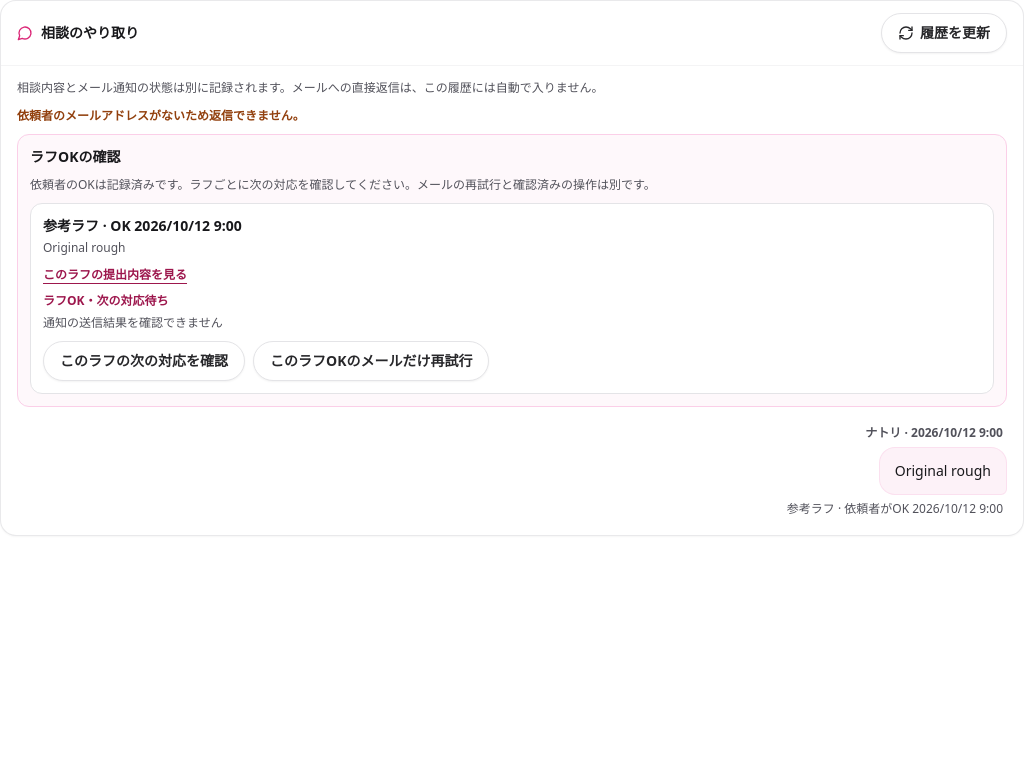
staff rough acknowledgement integration › a newer concurrent OK remains pending after the selected rough is acknowledged
Click the button "このラフの次の対応を確認".
click(144, 360)  # box x1=43 y1=340 x2=245 y2=380
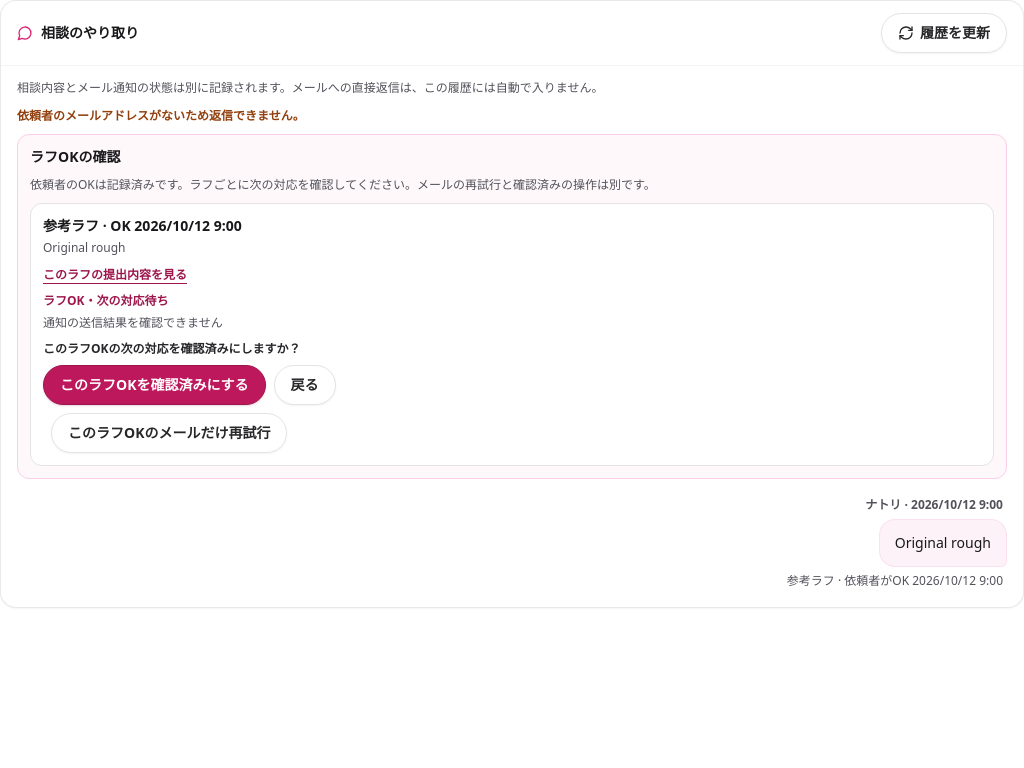
Click the button "このラフOKを確認済みにする".
click(154, 384)  # box x1=43 y1=364 x2=266 y2=404
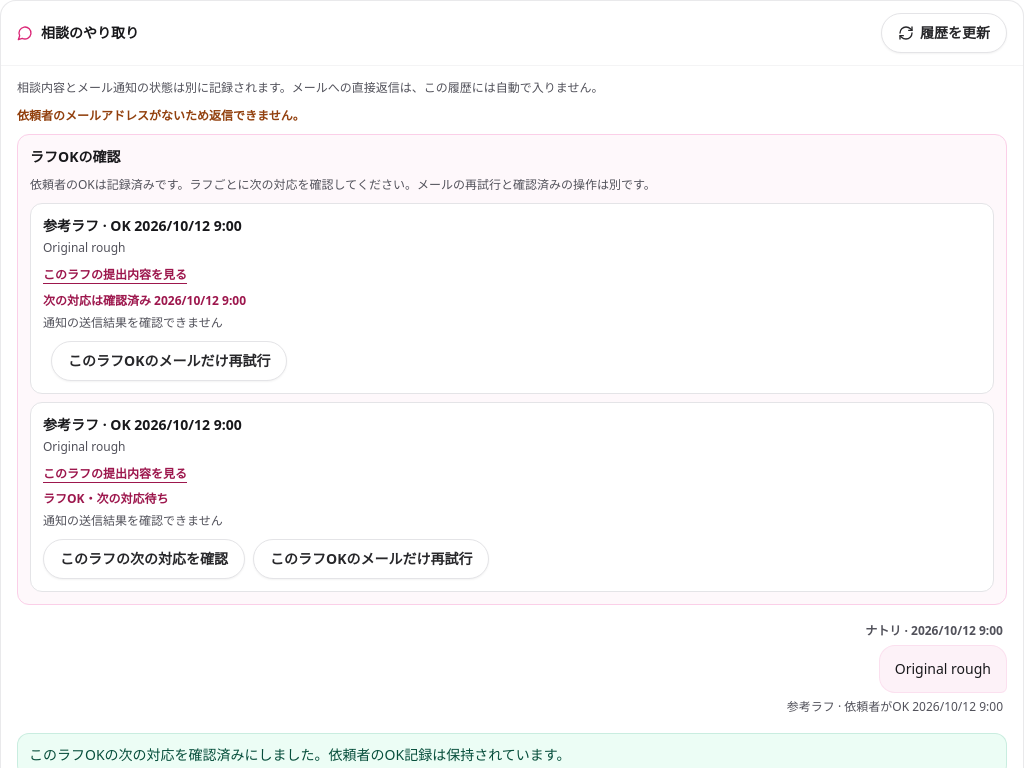
Check: the text "ラフOK・次の対応待ち" is shown, box x1=43 y1=490 x2=168 y2=507
Check: the number of buttons "このラフの次の対応を確認" is 1, box x1=43 y1=539 x2=245 y2=579
Check: the text "次の対応は確認済み 2026/10/12 9:00" is shown, box x1=43 y1=292 x2=246 y2=308
